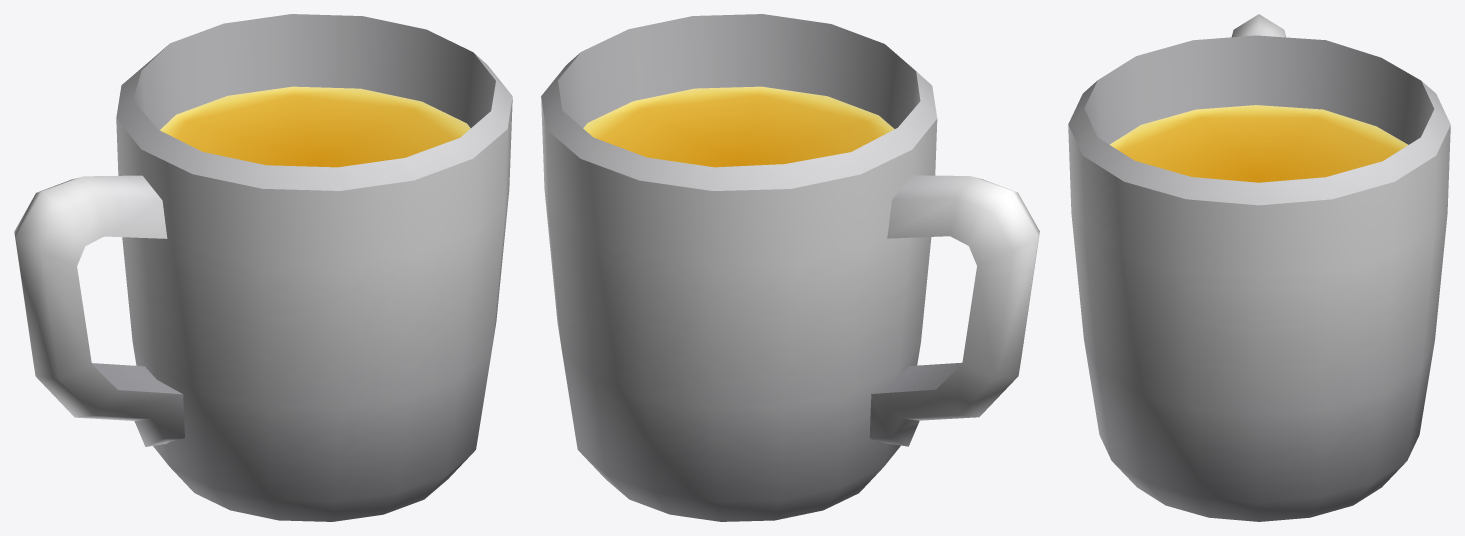
The model's file is m_Mug01_Tea06.fbx.
3 renders of one model, left to right at view 1: azimuth 30°, elevation 25°; view 2: azimuth 150°, elevation 25°; view 3: azimuth 270°, elevation 25°, orthographic. The views are drawn at different scales.
Visible parts, largest first — view 1: m_Mug01_Tea06; view 2: m_Mug01_Tea06; view 3: m_Mug01_Tea06.
Boxes of the visible parts, x1,y1,x2,y2 form: m_Mug01_Tea06: (14,14,512,521); m_Mug01_Tea06: (541,14,1039,521); m_Mug01_Tea06: (1068,14,1450,521).
Bounding box in the file's own units: 15.22 × 11.5 × 11.16.
